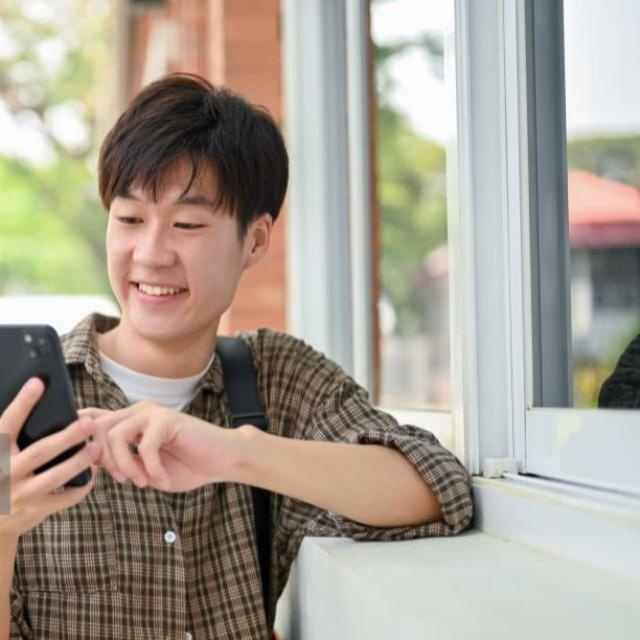Sin_Casco_Mascarrilla: (96, 68, 288, 336)
